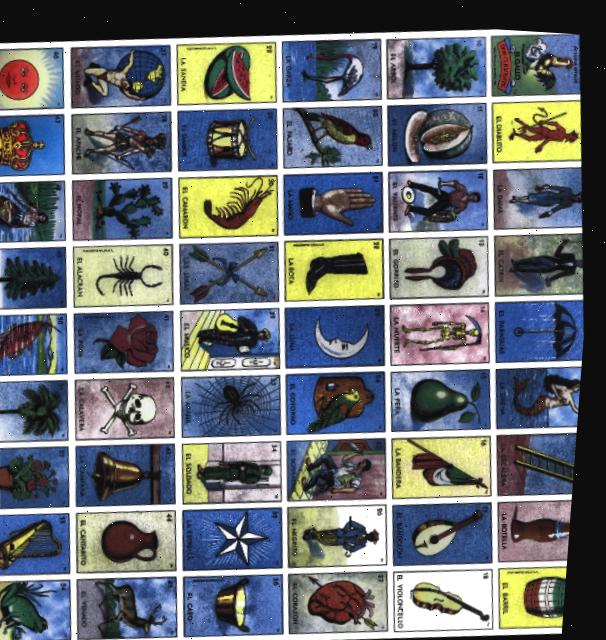El Alacran: (73, 238, 180, 310)
El Apache: (70, 105, 177, 177)
El Arbol: (383, 26, 490, 97)
El Arpa: (0, 507, 81, 579)
El Bandolon: (398, 492, 504, 564)
El Barril: (502, 554, 575, 623)
El Borracho: (290, 427, 397, 500)
El Camaron: (177, 168, 283, 239)
El Cantarito: (81, 504, 187, 575)
El Catrin: (494, 221, 590, 291)
El Cazo: (189, 565, 296, 637)
El Corazon: (294, 561, 400, 633)
El Cotorro: (288, 363, 395, 435)
El Diablito: (488, 88, 586, 159)
El Garza: (279, 29, 386, 102)
El Gorrito: (390, 224, 496, 297)
El Melon: (386, 93, 492, 165)
El Mundo: (69, 37, 175, 109)
El Musico: (181, 300, 287, 372)
El Negrito: (291, 495, 397, 567)
El Nopal: (72, 172, 178, 243)
El Pajaro: (281, 96, 387, 168)
El Paraguas: (495, 288, 591, 358)
El Pescado: (0, 308, 74, 378)
El Pino: (0, 241, 74, 312)
El Sol: (0, 44, 67, 113)
El Soldado: (185, 432, 291, 504)
El Tambor: (176, 100, 282, 172)
El Valiente: (387, 159, 493, 230)
El Venado: (82, 570, 189, 640)
El Violoncello: (398, 558, 504, 629)
Gallo: (487, 23, 584, 93)
La Arana: (183, 366, 289, 438)
La Bandera: (394, 426, 501, 497)
La Bota: (285, 229, 390, 301)
La Botella: (501, 488, 579, 557)
La Calavera: (77, 371, 183, 442)
La Campana: (78, 437, 185, 508)
La Chalupa: (0, 177, 72, 247)
La Corona: (0, 110, 69, 179)
La Dama: (492, 156, 588, 226)
La Escalera: (499, 421, 583, 490)
La Estrella: (187, 499, 293, 571)
La Luna: (286, 296, 393, 367)
La Maceta: (0, 440, 79, 512)
La Mano: (282, 163, 388, 234)
La Muerte: (392, 292, 498, 363)
La Palma: (0, 373, 77, 445)
La Pera: (392, 359, 499, 431)
La Rana: (0, 575, 82, 640)
La Rosa: (75, 304, 183, 377)
La Sandia: (174, 34, 281, 105)
La Sirena: (498, 353, 587, 423)
Las Jaras: (180, 233, 285, 305)
